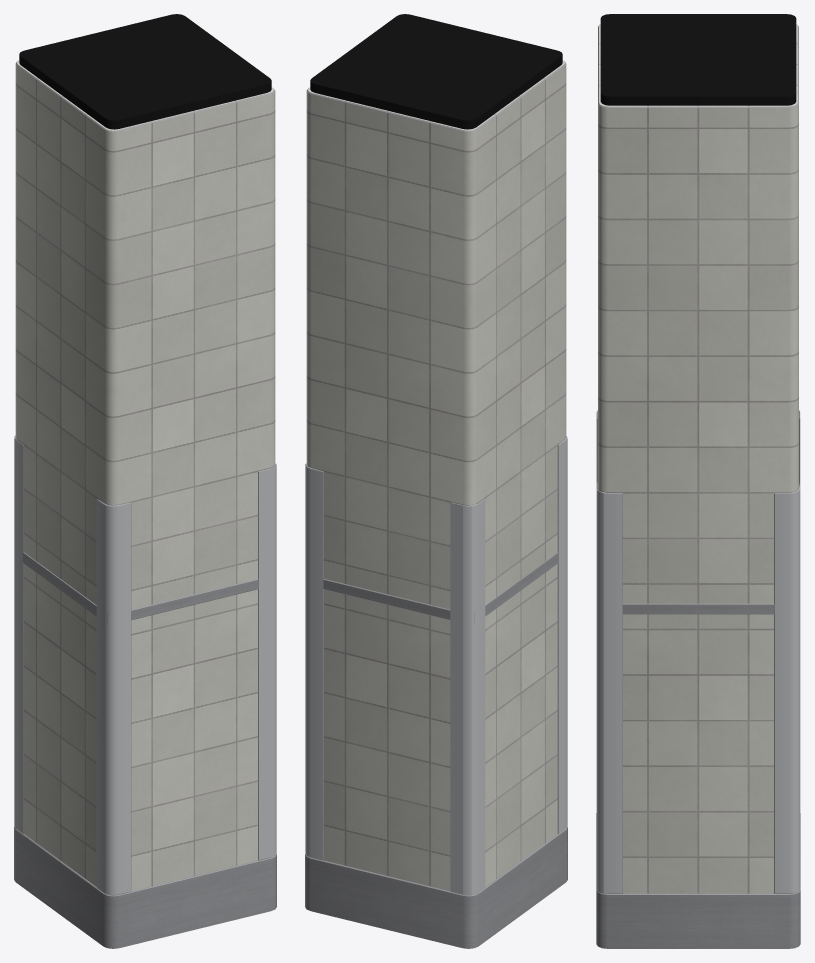
The model's file is gteki_column_square_600.glb.
3 renders of one model, left to right at view 1: azimuth 30°, elevation 25°; view 2: azimuth 150°, elevation 25°; view 3: azimuth 270°, elevation 25°, orthographic. The views are drawn at different scales.
Visible parts, largest first — view 1: VIS_body, VIS_trim; view 2: VIS_body, VIS_trim; view 3: VIS_body, VIS_trim.
Boxes of the visible parts, bbox=[...] form: VIS_body: bbox=[15, 60, 275, 891]; VIS_trim: bbox=[14, 14, 276, 948]; VIS_body: bbox=[306, 60, 566, 891]; VIS_trim: bbox=[305, 14, 567, 948]; VIS_body: bbox=[598, 24, 798, 893]; VIS_trim: bbox=[596, 14, 800, 948].
Size of what is drawn, in the model's own units: 0.61 by 2.8 by 0.61.
4 materials, 2 textured.
